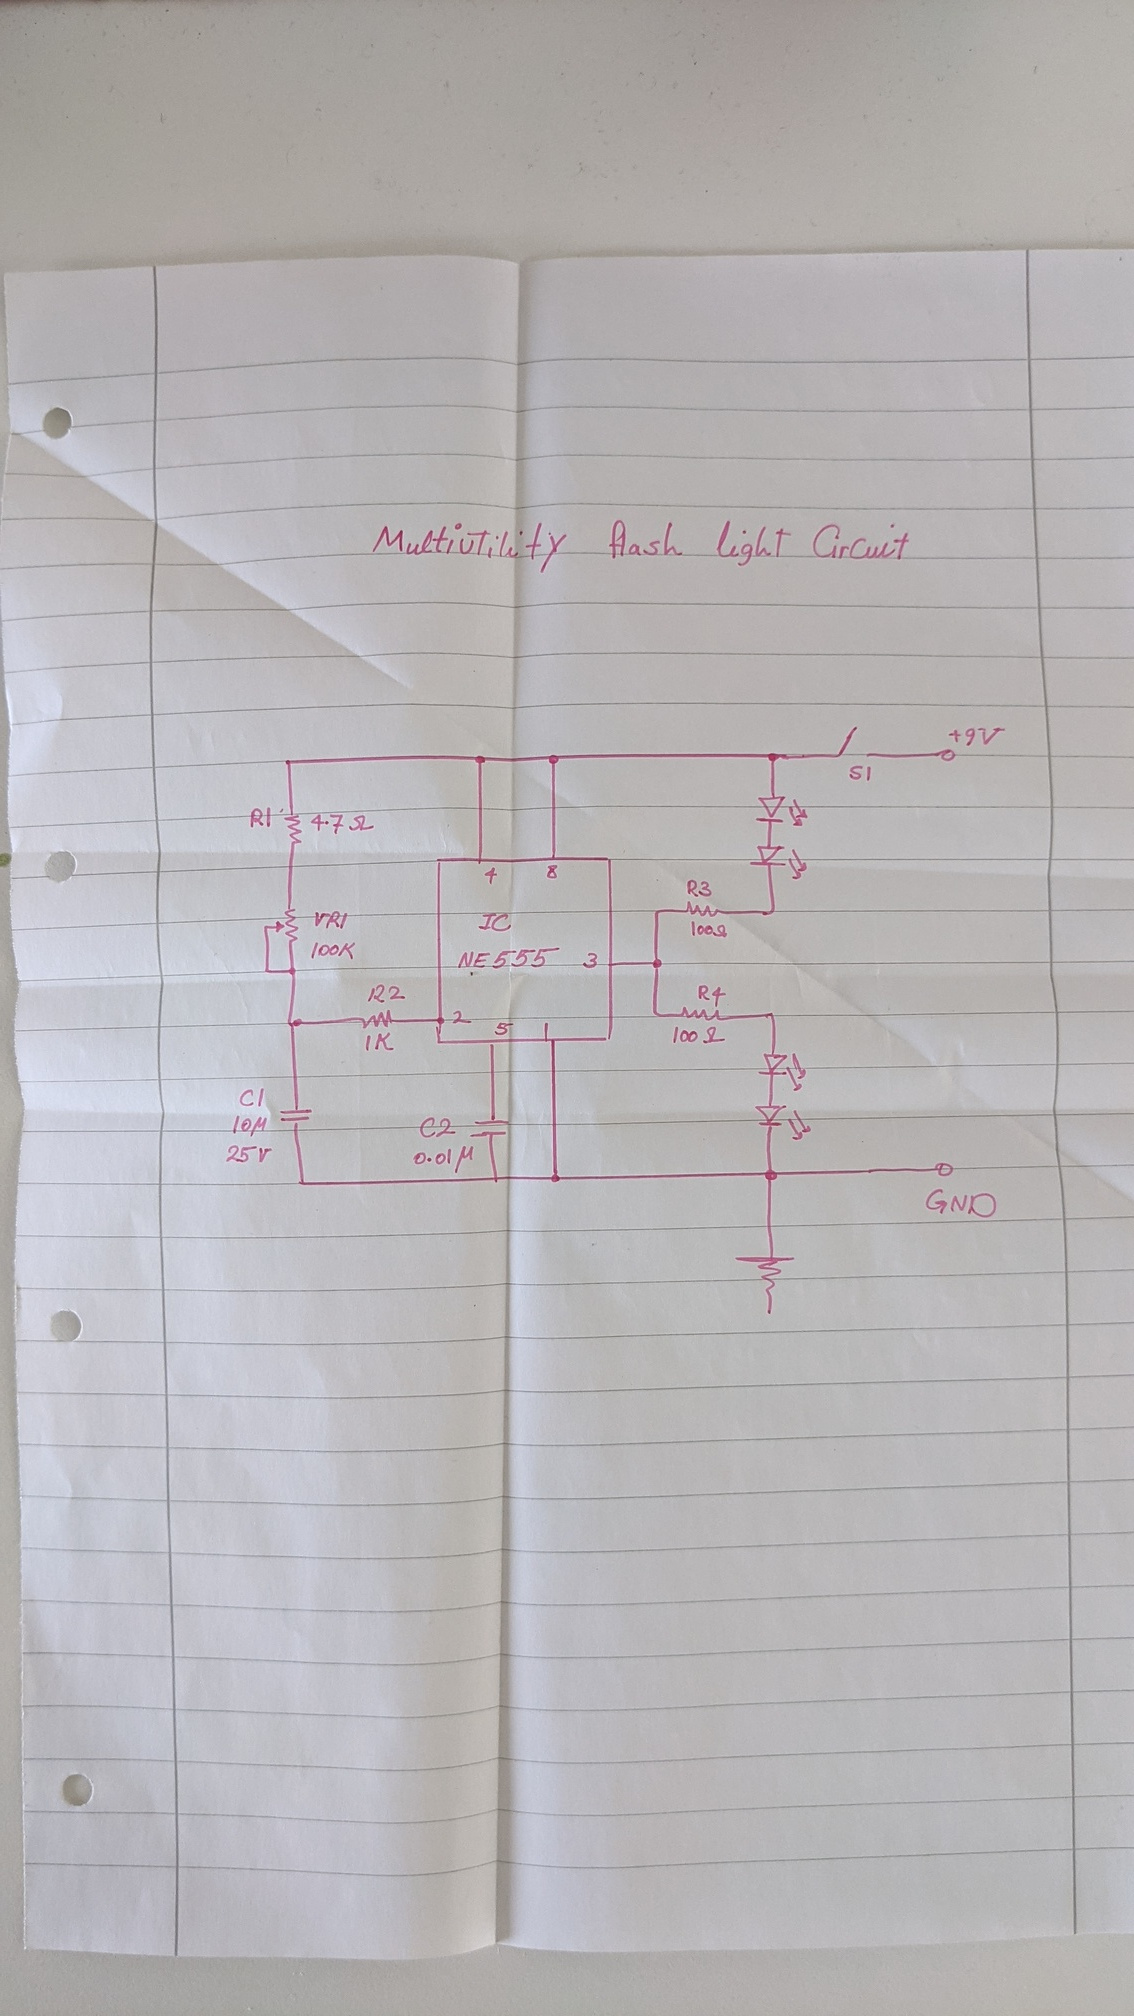capacitor.unpolarized: (468, 1116, 512, 1141), (277, 1105, 316, 1126)
diode.light_emitting: (755, 1050, 809, 1092), (748, 843, 809, 881), (753, 1104, 811, 1142), (752, 793, 810, 829)
gnd: (732, 1254, 798, 1317)
integrated_cricuit.ne555: (433, 854, 618, 1047)
junction: (763, 750, 784, 764), (762, 1167, 780, 1182), (285, 1016, 305, 1030), (548, 1170, 562, 1185), (474, 753, 487, 767), (547, 752, 561, 766), (764, 903, 778, 917), (649, 957, 665, 969), (649, 1008, 663, 1020), (490, 1173, 503, 1185), (282, 757, 296, 768), (764, 1009, 778, 1020), (296, 1177, 307, 1189), (287, 966, 299, 976), (654, 907, 665, 917), (262, 966, 271, 976), (262, 924, 271, 933)
resistor: (678, 1005, 727, 1023), (282, 811, 305, 847), (359, 1008, 395, 1030), (683, 900, 724, 918)
resistor.adjustable: (274, 906, 300, 944)
switch: (835, 726, 874, 762)
terminal: (933, 1160, 955, 1180), (937, 748, 958, 764)
text: (370, 515, 912, 576), (456, 944, 561, 969), (924, 1187, 998, 1220), (411, 1144, 475, 1174), (307, 811, 377, 836), (947, 726, 1007, 748), (672, 1025, 726, 1045), (310, 939, 357, 961), (418, 1115, 457, 1141), (366, 982, 408, 1005), (224, 1144, 273, 1164), (230, 1115, 269, 1140), (475, 912, 514, 935), (312, 908, 349, 930), (690, 919, 728, 940), (696, 983, 727, 1007), (364, 1032, 396, 1052), (238, 1086, 266, 1109), (249, 804, 274, 829), (685, 878, 714, 899), (847, 763, 872, 784), (450, 1007, 474, 1026), (582, 950, 600, 971), (493, 1020, 515, 1037), (483, 865, 500, 885), (546, 863, 559, 881), (541, 1020, 551, 1043)
